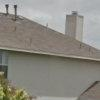Chimney: (62, 6, 84, 44)
